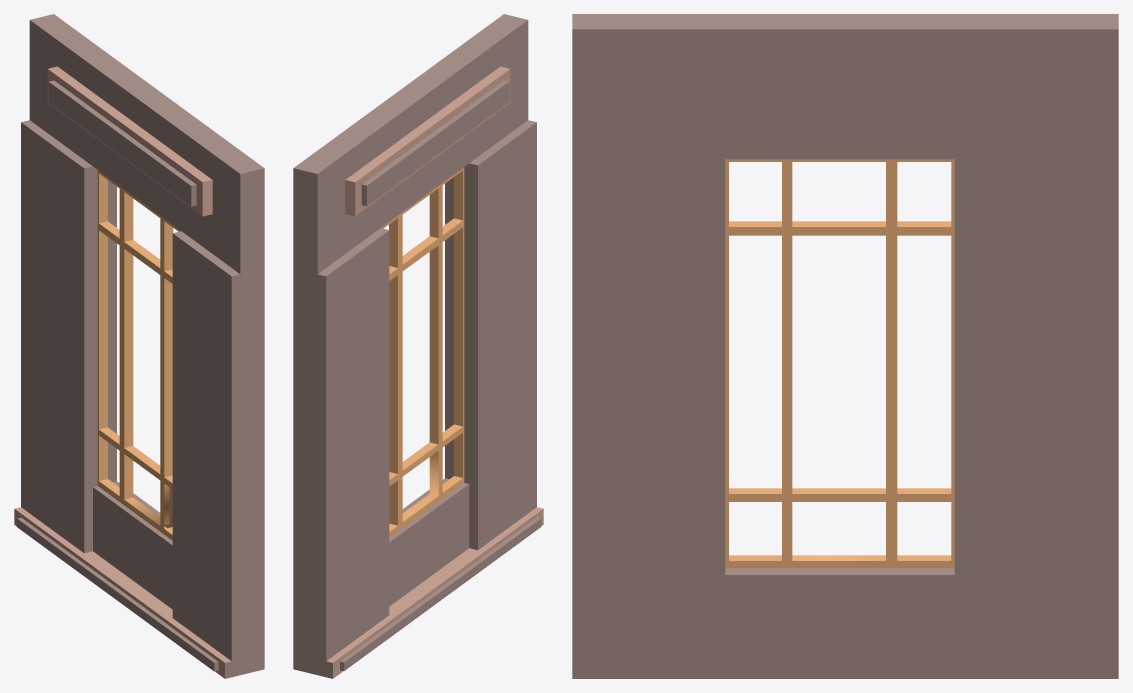
The model's file is window_01.fbx.
The picture shows the model from 3 angles, left to right: view 1: azimuth 30°, elevation 25°; view 2: azimuth 150°, elevation 25°; view 3: azimuth 270°, elevation 25°; orthographic projection. The views are drawn at different scales.
Visible parts, largest first — view 1: window_01_wall, window_01_frame; view 2: window_01_wall, window_01_frame; view 3: window_01_wall, window_01_frame.
Boxes of the visible parts, bbox=[...] form: window_01_wall: bbox=[14, 14, 264, 678]; window_01_frame: bbox=[97, 170, 180, 540]; window_01_wall: bbox=[293, 14, 543, 678]; window_01_frame: bbox=[381, 167, 464, 537]; window_01_wall: bbox=[572, 14, 1118, 678]; window_01_frame: bbox=[725, 159, 954, 568].
Size of the model in its own units: 0.813 by 8.89 by 6.78.
